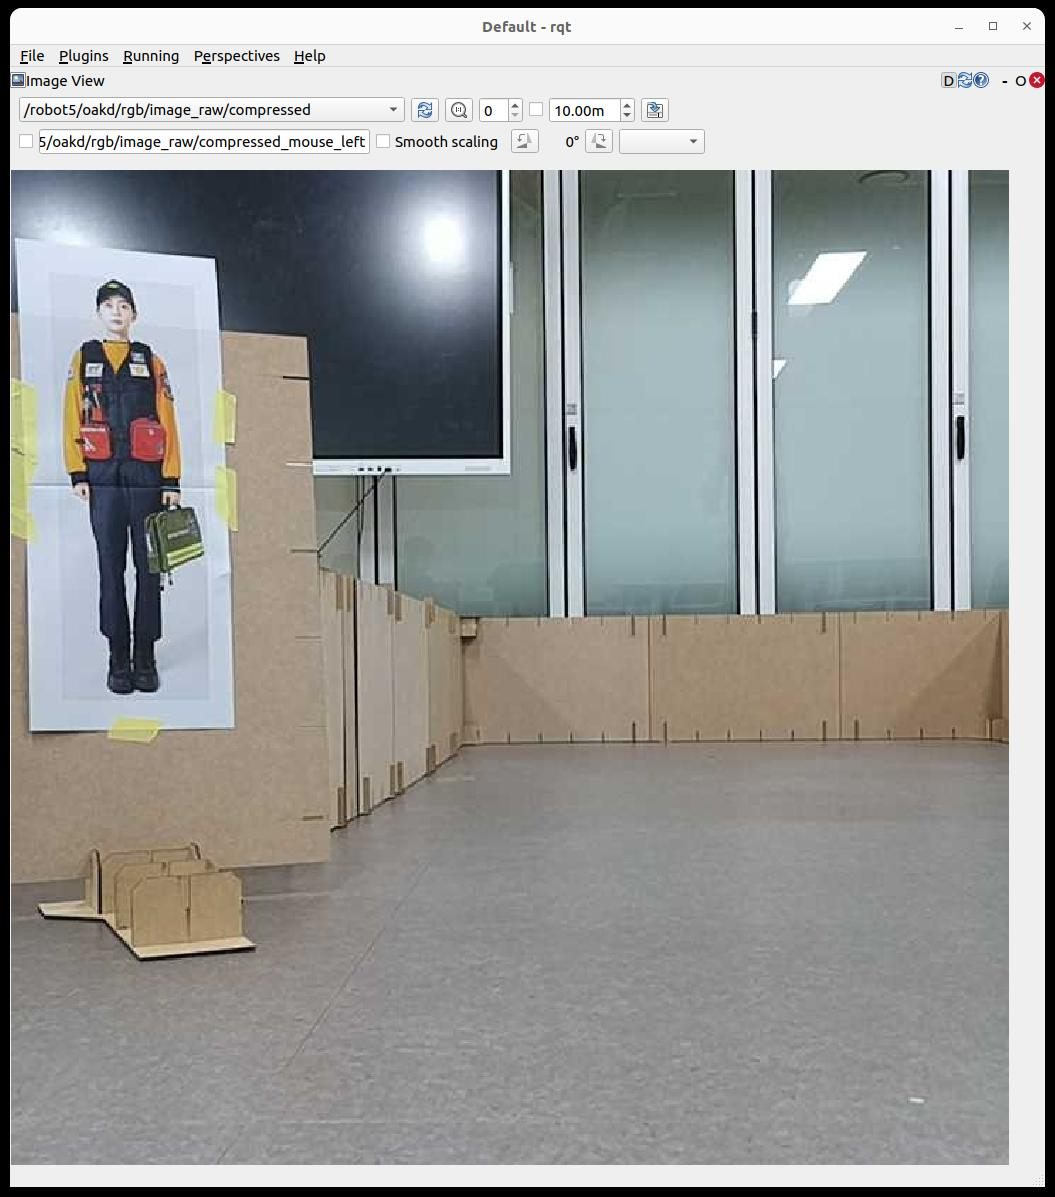Responder: (64, 280, 180, 694)
